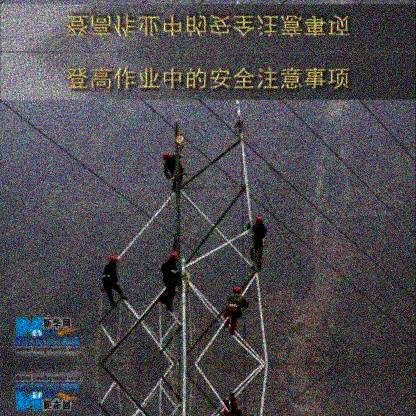helmet: (160, 147, 176, 162), (255, 213, 264, 228), (167, 251, 179, 262), (108, 251, 119, 261), (232, 281, 240, 292)
